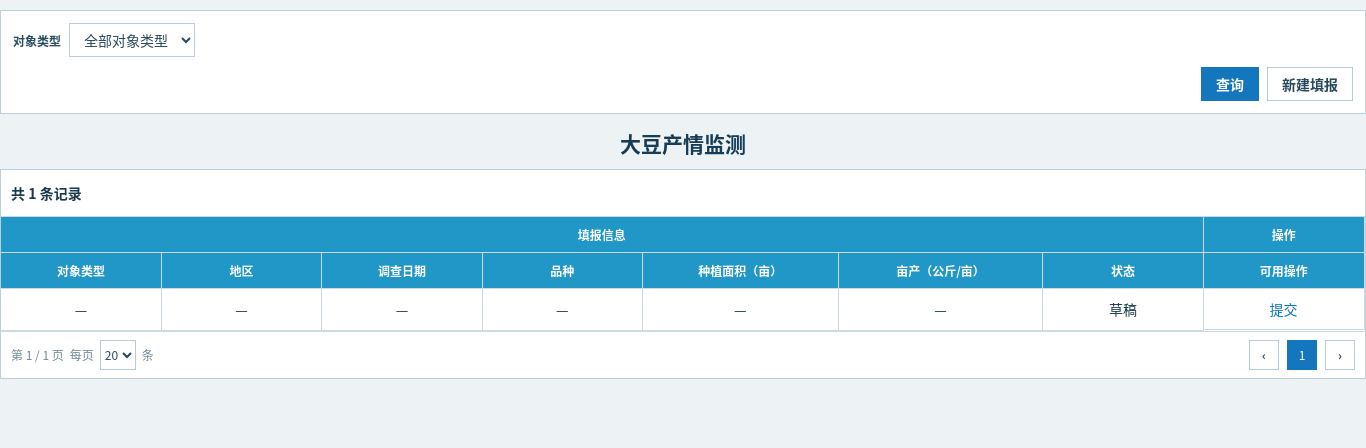
ProductionMonitoringPage › shows a stable action error for CONFLICT
The width and height of the screenshot is (1366, 448).
Click the button "提交".
click(1284, 309)  # box [1264,298,1304,320]
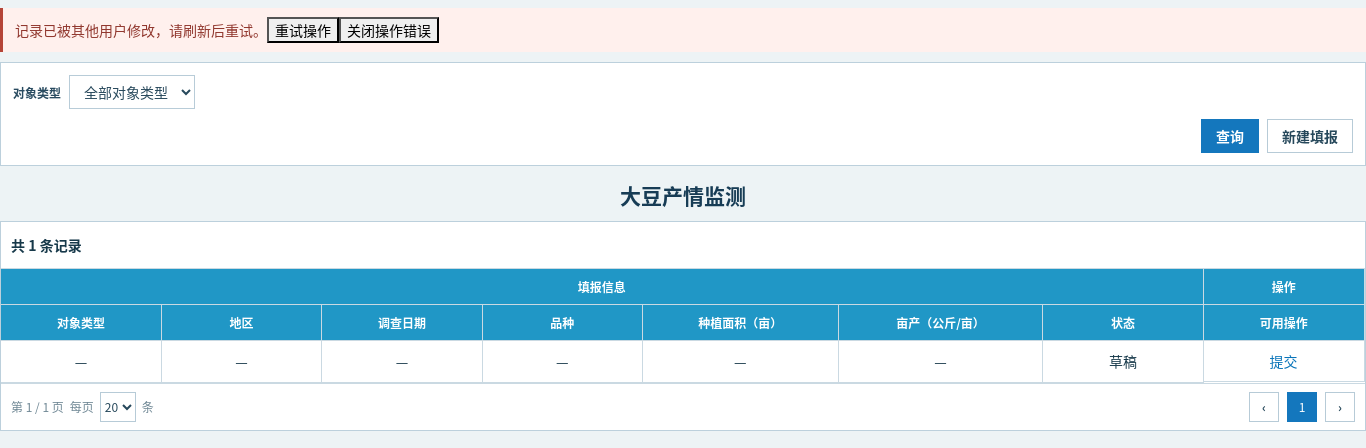
Result: the message shows "记录已被其他用户修改，请刷新后重试。" at [15,20,267,40]
Result: the button "重试操作" is shown at [267,17,339,43]
Result: the button "关闭操作错误" is shown at [339,17,439,43]
